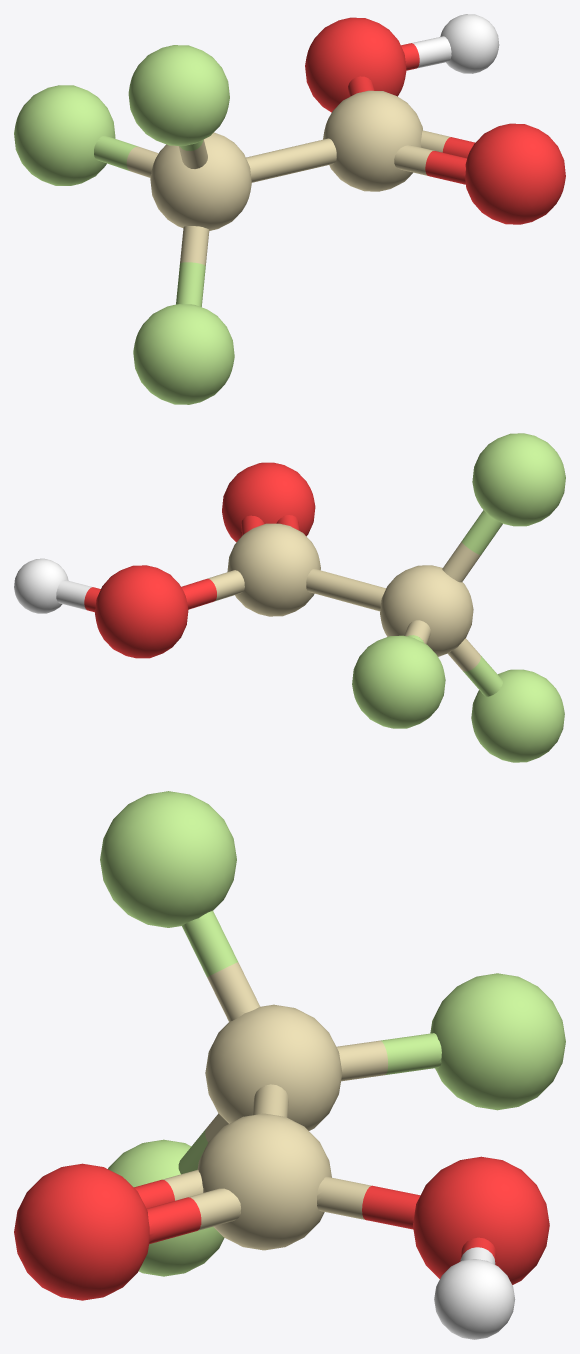
Rendered from TrifluoroaceticAcid.glb.
3 renders of one model, top to bottom at view 1: azimuth 30°, elevation 25°; view 2: azimuth 150°, elevation 25°; view 3: azimuth 270°, elevation 25°, orthographic. The views are drawn at different scales.
Parts seen in each view (by area): view 1: atoms, sticks, hydrogen; view 2: atoms, sticks, hydrogen; view 3: atoms, sticks, hydrogen.
Boxes of the visible parts, left/top/right/bottom form: atoms: left=14, top=17, right=565, bottom=404; sticks: left=94, top=36, right=474, bottom=306; hydrogen: left=440, top=14, right=499, bottom=73; atoms: left=95, top=433, right=565, bottom=762; sticks: left=56, top=510, right=502, bottom=696; hydrogen: left=14, top=558, right=68, bottom=613; atoms: left=14, top=791, right=565, bottom=1300; sticks: left=134, top=910, right=496, bottom=1264; hydrogen: left=434, top=1259, right=515, bottom=1339.
Bounding box in the file's own units: 4.19 × 2.96 × 3.14.
